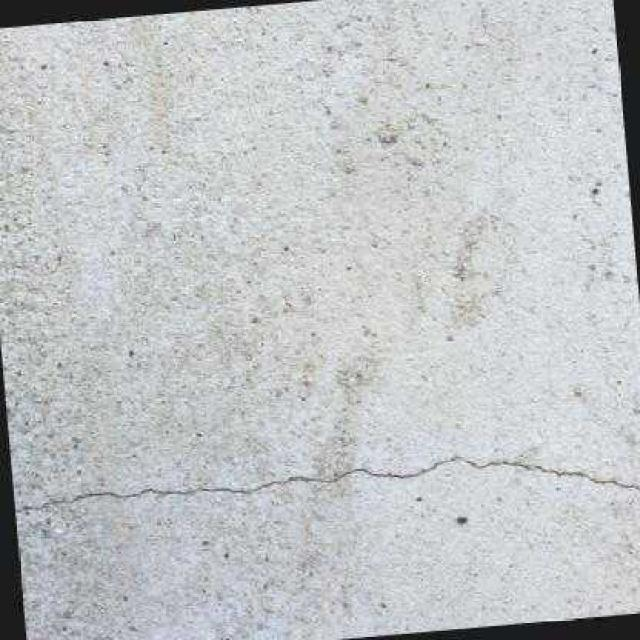D00: (15, 454, 640, 511)
